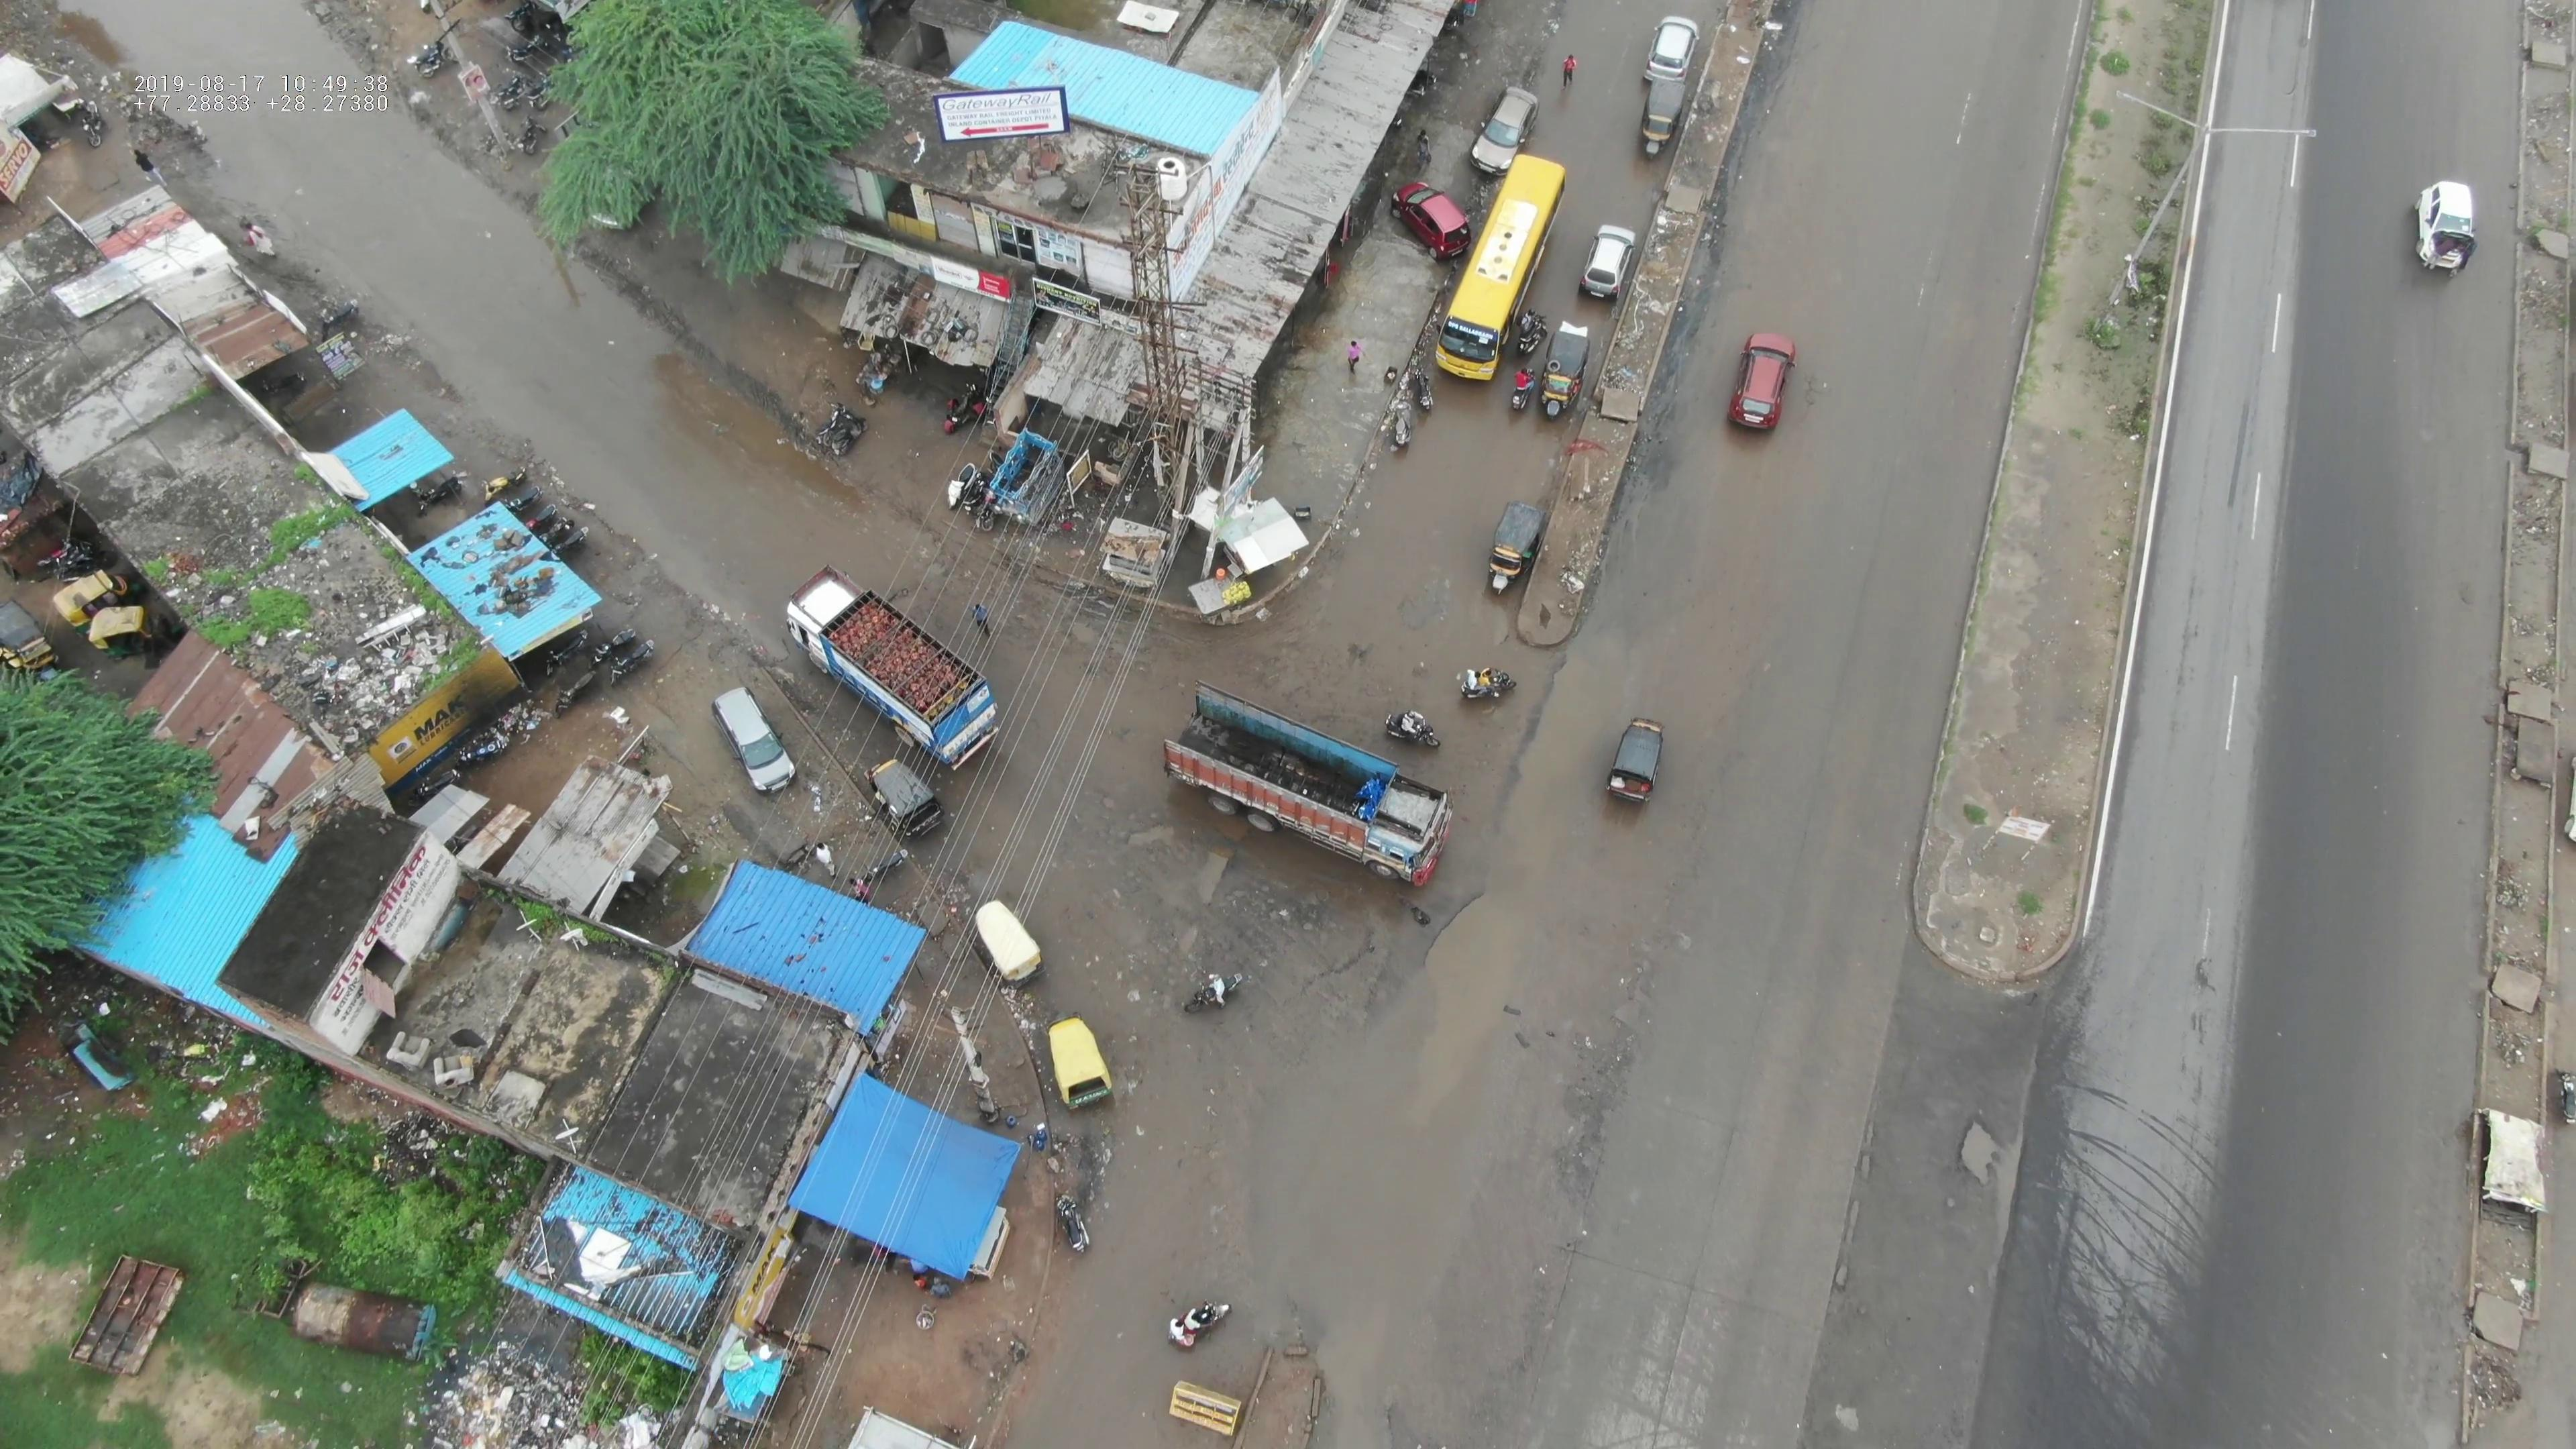Potholes: (1458, 617, 1614, 879), (1389, 883, 1566, 1113)
Waterlogging: (628, 331, 867, 533)
